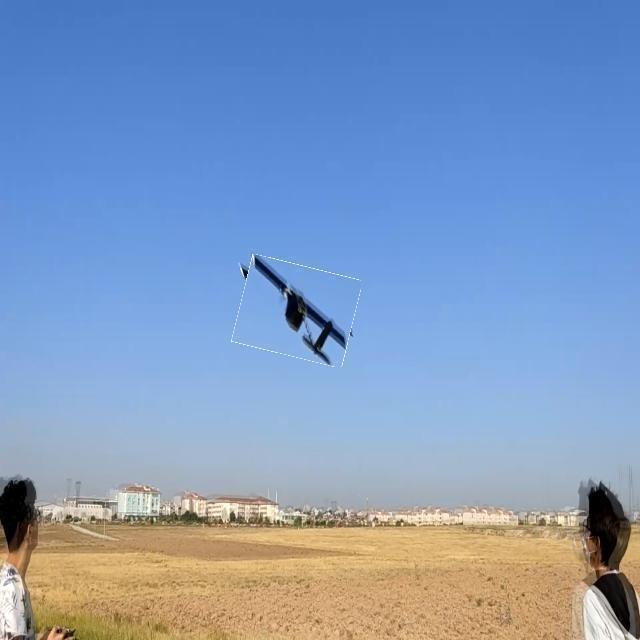Airplane: (232, 253, 362, 369)
